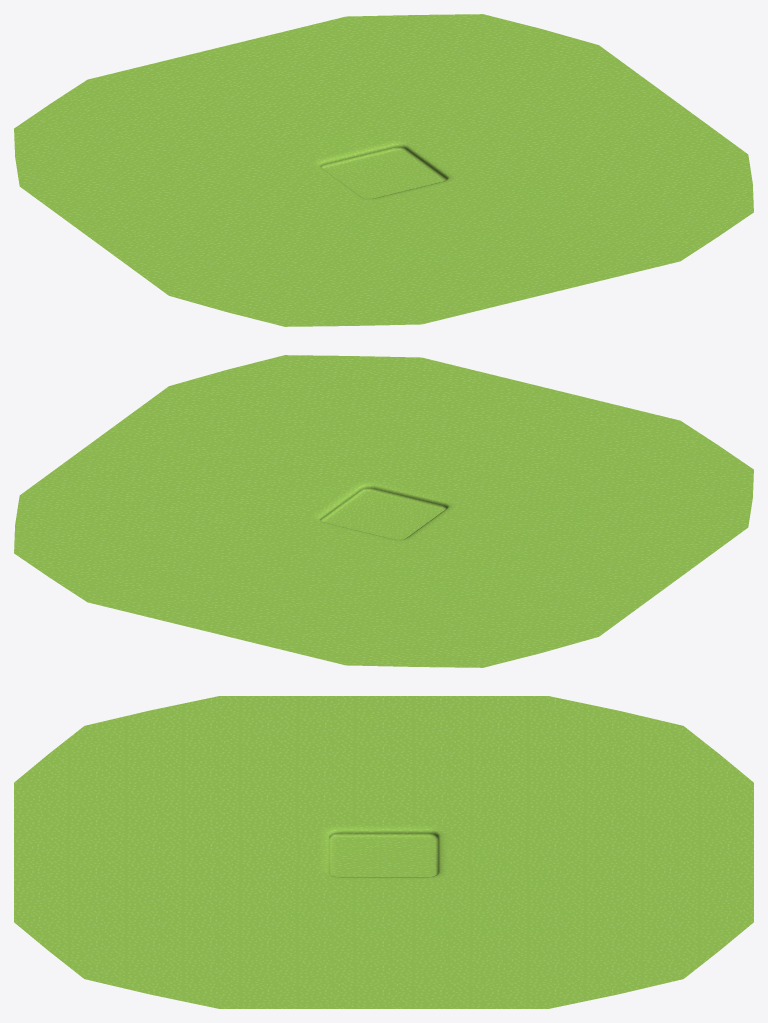
File: Terrain 1.fbx
3 renders of one model, top to bottom at view 1: azimuth 30°, elevation 25°; view 2: azimuth 150°, elevation 25°; view 3: azimuth 270°, elevation 25°, orthographic. The views are drawn at different scales.
Visible parts, largest first — view 1: TerrenoDefinitivo; view 2: TerrenoDefinitivo; view 3: TerrenoDefinitivo.
Part boxes in pixels (bbox=[...]): TerrenoDefinitivo: bbox=[14, 14, 753, 326]; TerrenoDefinitivo: bbox=[14, 355, 753, 667]; TerrenoDefinitivo: bbox=[14, 696, 753, 1008].
Bounding box in the file's own units: 6101 × 59.99 × 6101.
1 material, 1 textured.
